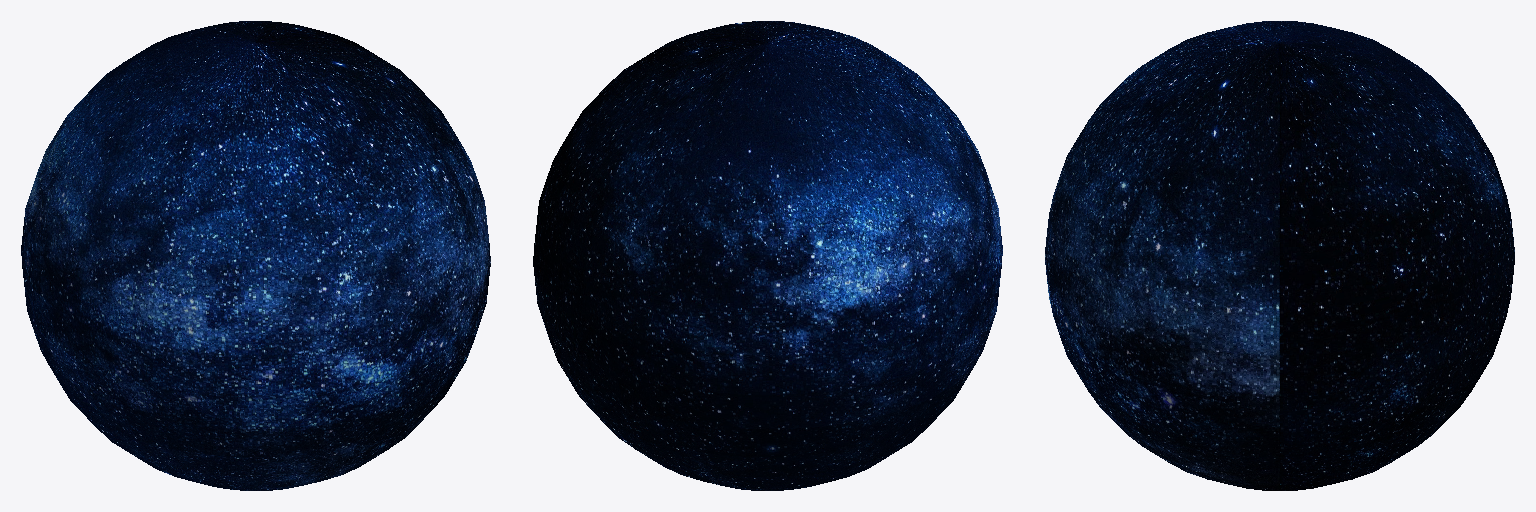
3 views of the same model, side by side, from view 1: azimuth 30°, elevation 25°; view 2: azimuth 150°, elevation 25°; view 3: azimuth 270°, elevation 25° (orthographic).
Visible parts, largest first — view 1: 球; view 2: 球; view 3: 球.
Part boxes in pixels (bbox=[...]): 球: bbox=[21, 21, 490, 490]; 球: bbox=[533, 21, 1002, 490]; 球: bbox=[1045, 21, 1514, 490].
Bounding box in the file's own units: 500 × 500 × 500.
1 materials, 1 textured.